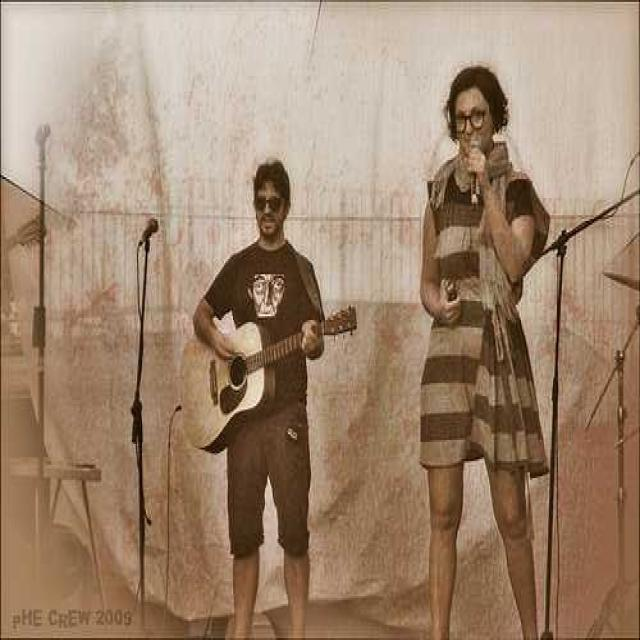microphone: (468, 140, 483, 208), (137, 218, 159, 250)
